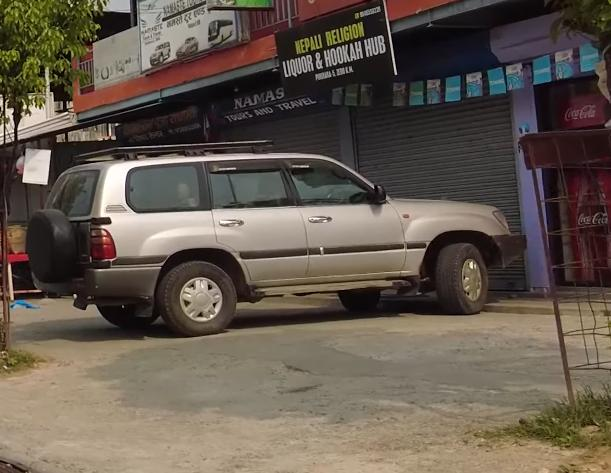SUV: (11, 132, 523, 343)
